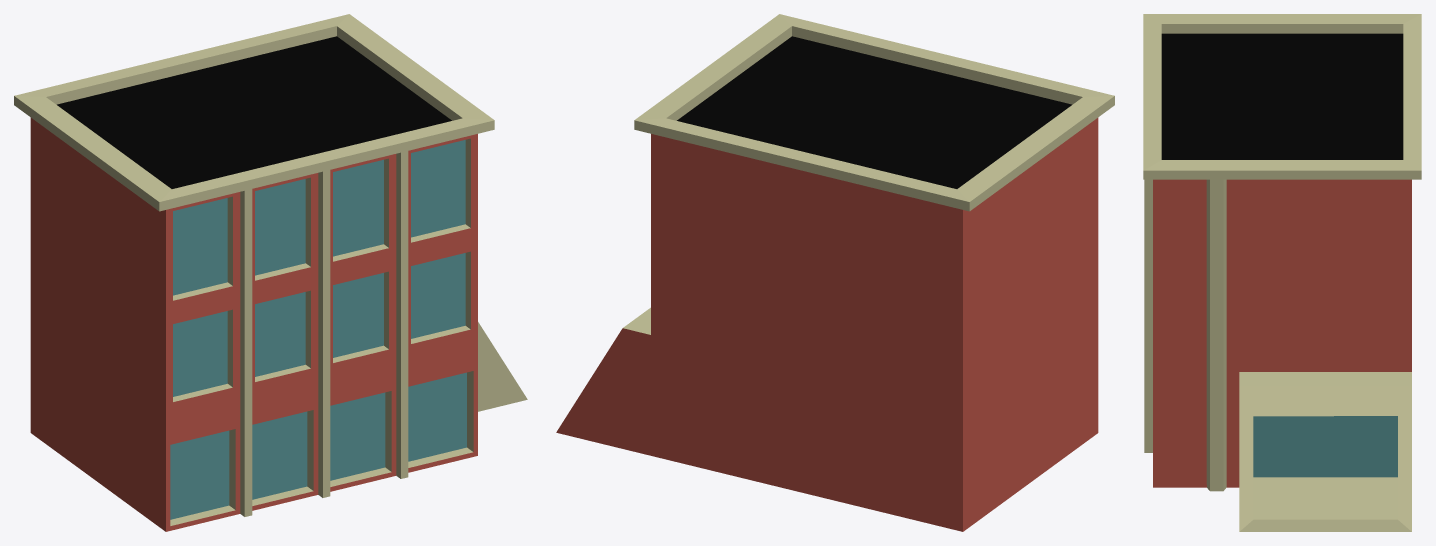
File: NewSchool1.fbx
3 renders of one model, left to right at view 1: azimuth 30°, elevation 25°; view 2: azimuth 150°, elevation 25°; view 3: azimuth 270°, elevation 25°, orthographic. The views are drawn at different scales.
Parts seen in each view (by area): view 1: S1; view 2: S1; view 3: S1.
Part boxes in pixels (x1,y1,x2,y2): S1: (14,14,527,531); S1: (556,14,1114,531); S1: (1143,14,1421,531).
Size of the model in its own units: 10.73 by 8.25 by 6.45.
